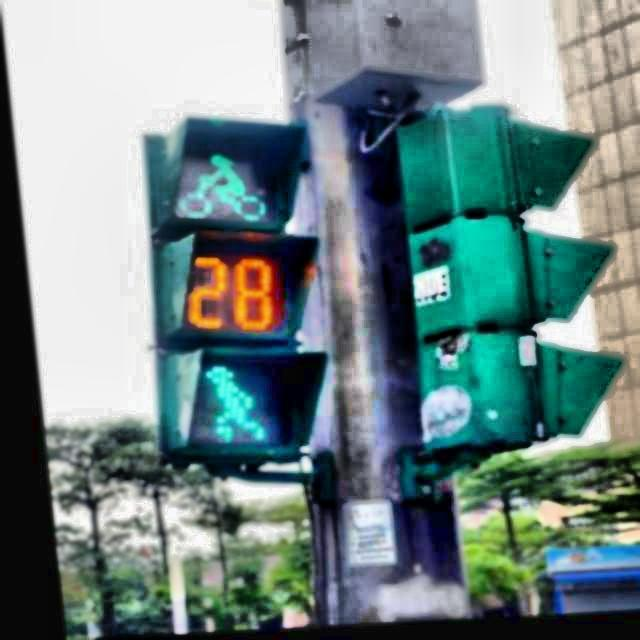semaforo pedestre: (60, 62, 388, 554)
